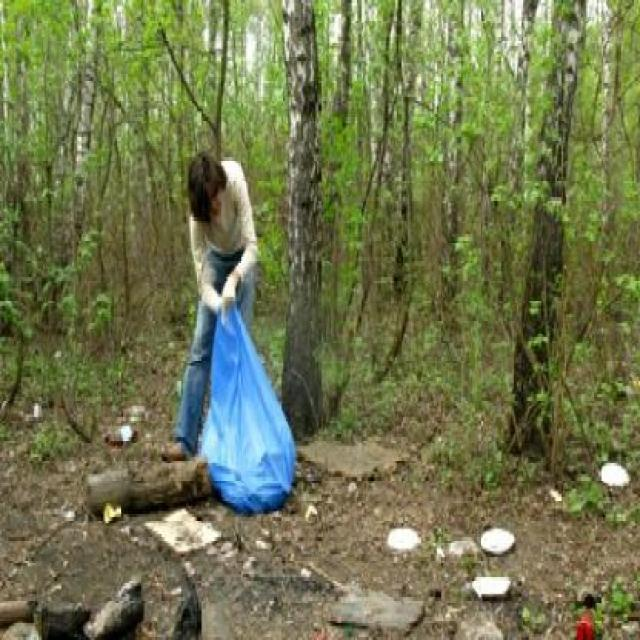garbage: (200, 317, 289, 508), (475, 520, 522, 560), (389, 523, 424, 552)
